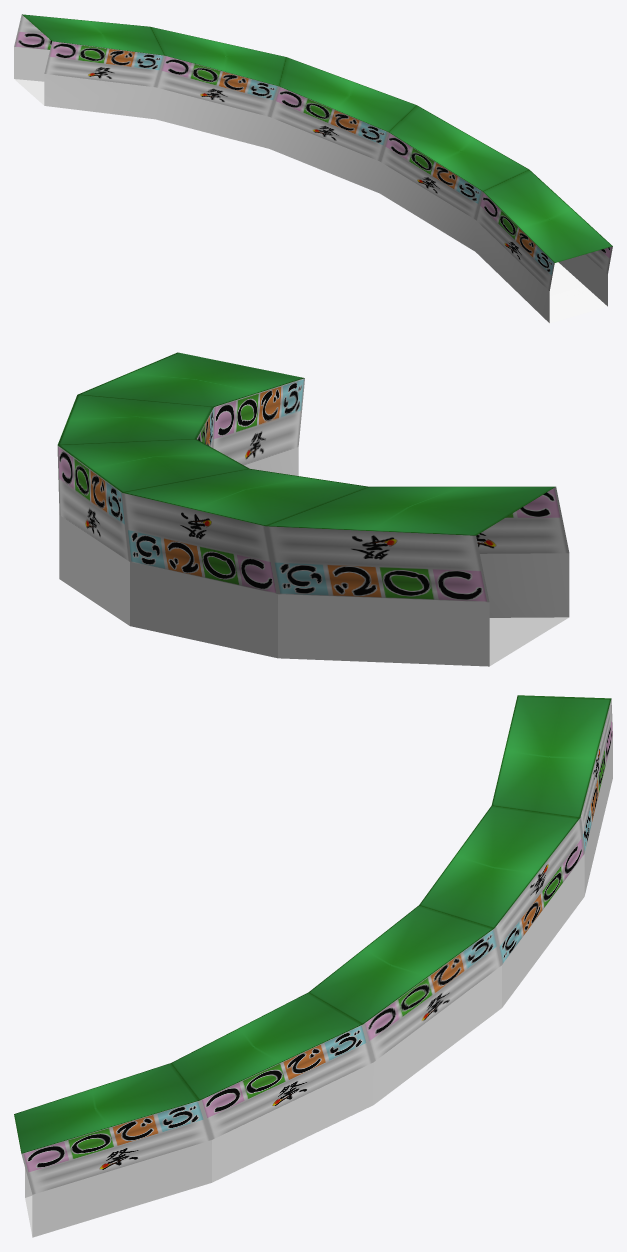
File: CourseWinter_Wall_R_6.fbx
The picture shows the model from 3 angles, top to bottom: view 1: azimuth 30°, elevation 25°; view 2: azimuth 150°, elevation 25°; view 3: azimuth 270°, elevation 25°; orthographic projection. The views are drawn at different scales.
Parts seen in each view (by area): view 1: polySurface430; view 2: polySurface430; view 3: polySurface430.
Part boxes in pixels (x1,y1,x2,y2): polySurface430: (14,14,612,323); polySurface430: (57,352,569,666); polySurface430: (14,695,612,1237).
Size of the model in its own units: 12.47 by 6.97 by 12.67.
1 material, 1 textured.
